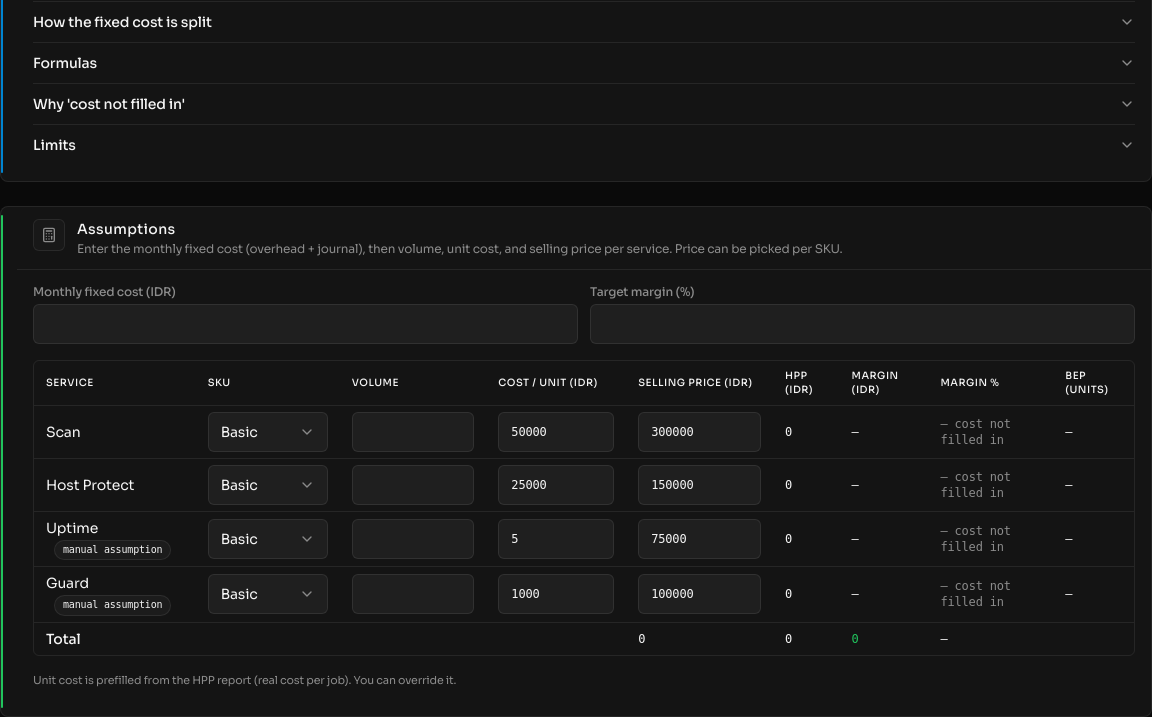
Test: AdminHppSimulator › prefills a locked price for uptime and guard
(page scrolled)
expect the field with test id "hpp-sim-price-uptime" holds "75000": met, box [638,519,761,559]
expect the field with test id "hpp-sim-price-guard" holds "100000": met, box [638,574,761,614]
Click the dropdown with test id "hpp-sim-sku-uptime".
click(268, 539)  # box [208,519,328,559]
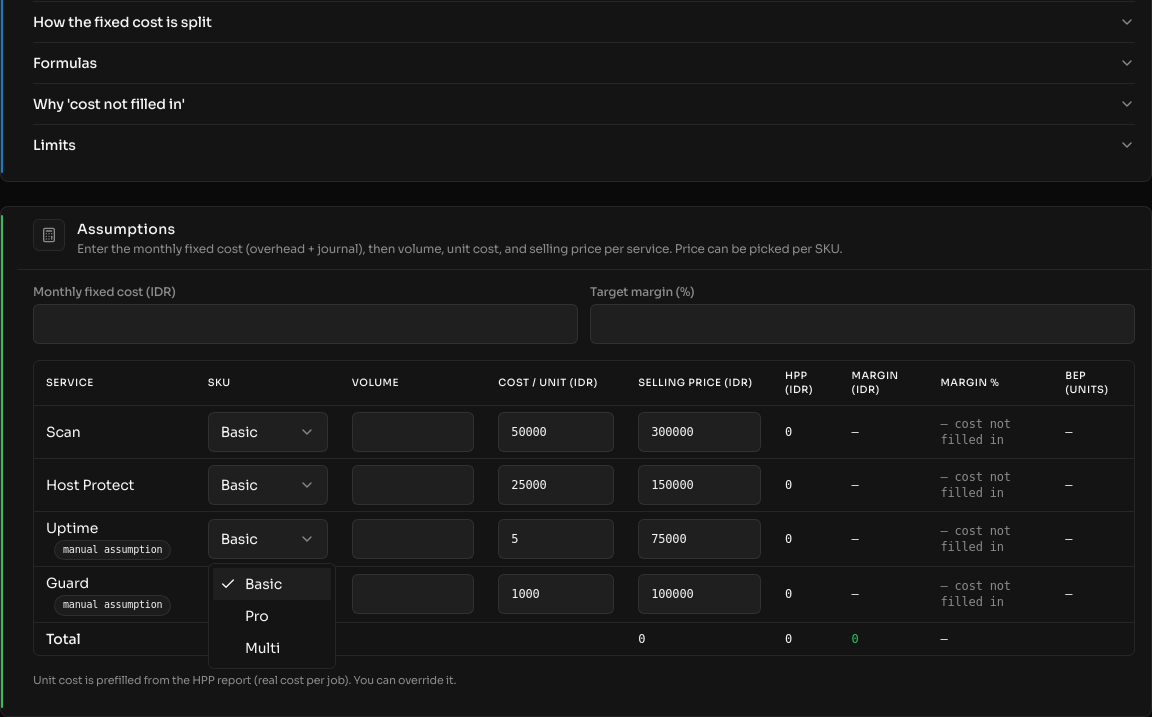
Click the option "Multi".
click(263, 648)  # box [245,639,280,657]
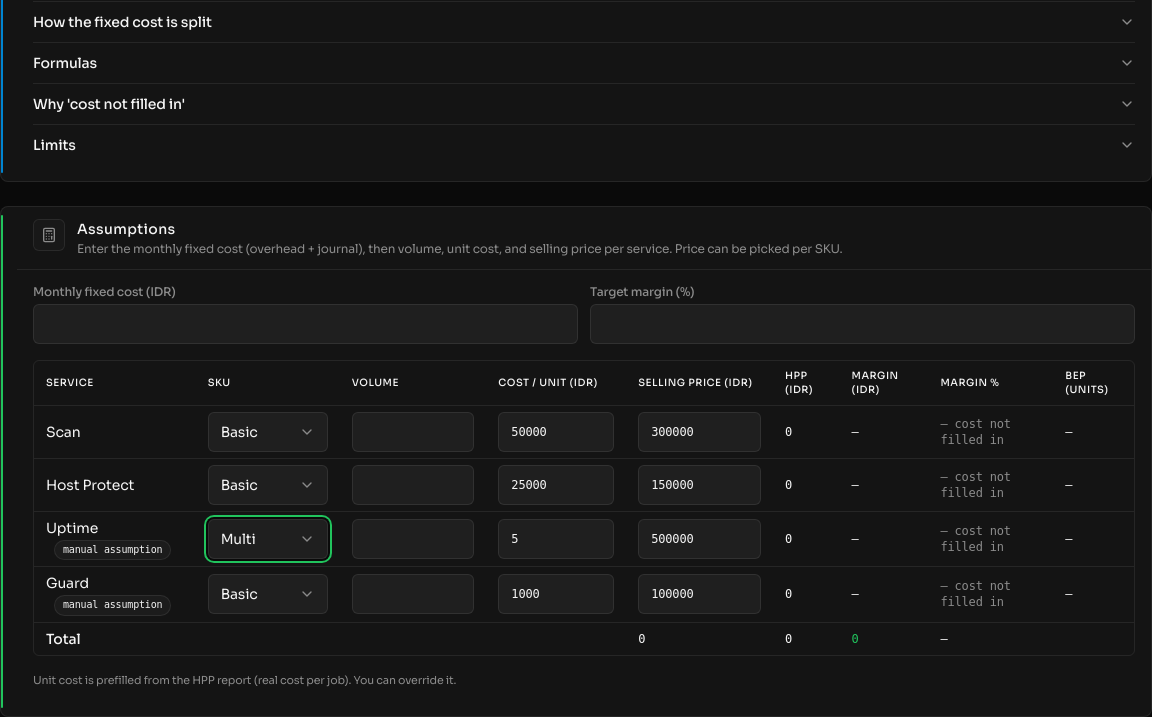
expect the field with test id "hpp-sim-price-uptime" holds "500000": met, box [638,519,761,559]
